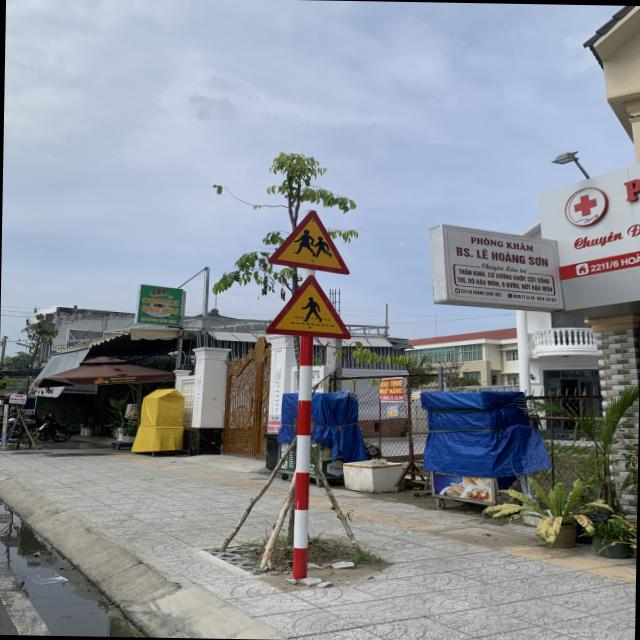Duong_Nguoi_Di_Bo_Sang_Ngang: (264, 274, 352, 339)
Vong_Xuyen: (268, 209, 350, 275)
